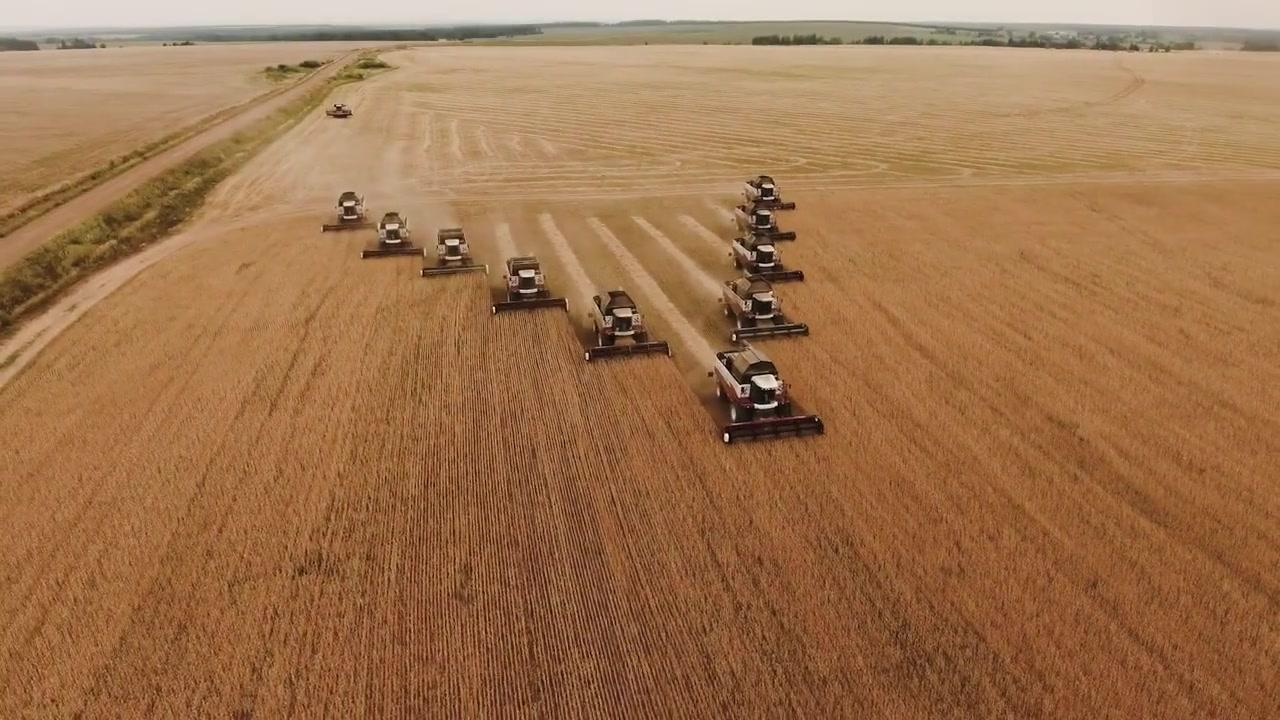combine harvester: (707, 341, 830, 450), (579, 285, 675, 368), (717, 271, 813, 345), (489, 250, 573, 320), (416, 221, 493, 287), (728, 229, 809, 286), (358, 207, 432, 265), (322, 186, 381, 237), (732, 198, 800, 240), (741, 171, 799, 212), (325, 97, 357, 120)
